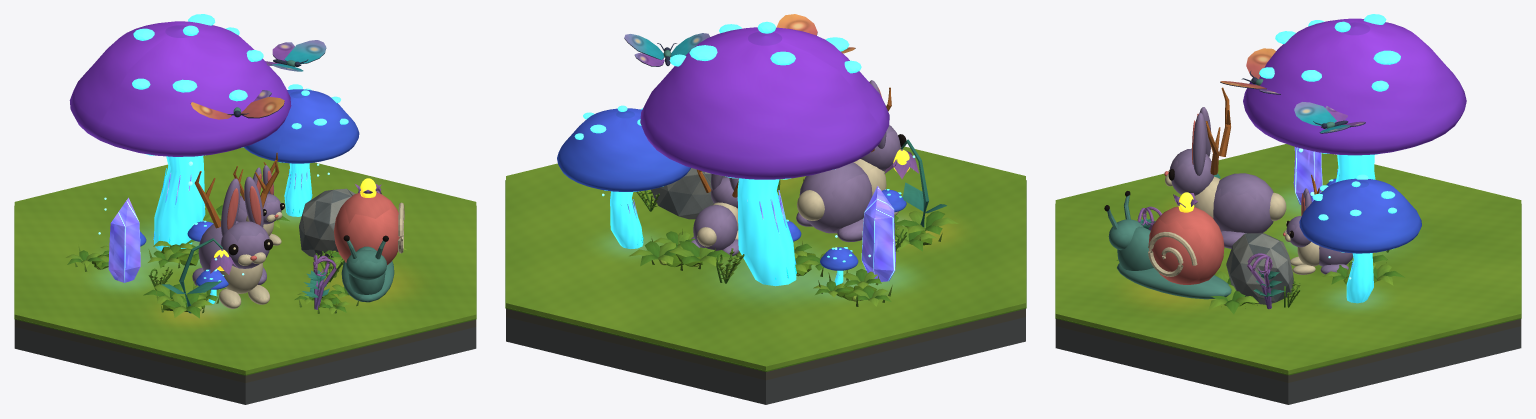
Rendered from hex_dream_menagerie.glb.
The picture shows the model from 3 angles, left to right: view 1: azimuth 30°, elevation 25°; view 2: azimuth 150°, elevation 25°; view 3: azimuth 270°, elevation 25°; orthographic projection. The views are drawn at different scales.
Visible parts, largest first — view 1: Standard hex meadow top.001, Broad faceted mushroom cap.002, Standard hex stone foundation.001, Broad faceted mushroom cap.003, Standard hex earth layer.001, Curving luminous mushroom stem.002, Coral lantern shell.001, Angular mossy forest boulder.001, Faceted magical crystal.002, Jackalope head.001, Curving luminous mushroom stem.003, Snail round head.001 (+10 smaller); view 2: Standard hex meadow top.001, Broad faceted mushroom cap.002, Standard hex stone foundation.001, Broad faceted mushroom cap.003, Curving luminous mushroom stem.002, Standard hex earth layer.001, Round jackalope haunch.001, Faceted magical crystal.002, Angular mossy forest boulder.001, Curving luminous mushroom stem.003, Round jackalope haunch.002, Jackalope head.001 (+8 smaller); view 3: Standard hex meadow top.001, Broad faceted mushroom cap.002, Standard hex stone foundation.001, Broad faceted mushroom cap.003, Coral lantern shell.001, Standard hex earth layer.001, Round jackalope haunch.001, Angular mossy forest boulder.001, Snail soft foot.001, Jackalope head.001, Faceted magical crystal.002, Curving luminous mushroom stem.003 (+13 smaller).
Part boxes in pixels (x1=…): Standard hex meadow top.001: x1=14, y1=147, x2=476, y2=374; Broad faceted mushroom cap.002: x1=69, y1=21, x2=291, y2=156; Standard hex stone foundation.001: x1=14, y1=327, x2=476, y2=404; Broad faceted mushroom cap.003: x1=244, y1=89, x2=359, y2=163; Standard hex earth layer.001: x1=14, y1=319, x2=476, y2=382; Curving luminous mushroom stem.002: x1=154, y1=156, x2=205, y2=250; Coral lantern shell.001: x1=334, y1=192, x2=401, y2=264; Angular mossy forest boulder.001: x1=299, y1=188, x2=355, y2=257; Faceted magical crystal.002: x1=108, y1=197, x2=140, y2=282; Jackalope head.001: x1=220, y1=221, x2=269, y2=268; Curving luminous mushroom stem.003: x1=284, y1=163, x2=312, y2=216; Snail round head.001: x1=346, y1=249, x2=387, y2=280; Standard hex meadow top.001: x1=506, y1=146, x2=1025, y2=370; Broad faceted mushroom cap.002: x1=640, y1=27, x2=889, y2=179; Standard hex stone foundation.001: x1=506, y1=317, x2=1025, y2=404; Broad faceted mushroom cap.003: x1=557, y1=108, x2=690, y2=191; Curving luminous mushroom stem.002: x1=737, y1=178, x2=796, y2=286; Standard hex earth layer.001: x1=506, y1=308, x2=1025, y2=380; Round jackalope haunch.001: x1=799, y1=162, x2=872, y2=233; Faceted magical crystal.002: x1=861, y1=186, x2=895, y2=281; Angular mossy forest boulder.001: x1=651, y1=168, x2=726, y2=219; Curving luminous mushroom stem.003: x1=610, y1=191, x2=643, y2=248; Round jackalope haunch.002: x1=693, y1=205, x2=737, y2=250; Jackalope head.001: x1=860, y1=125, x2=900, y2=171; Standard hex meadow top.001: x1=1055, y1=144, x2=1521, y2=374; Broad faceted mushroom cap.002: x1=1243, y1=18, x2=1466, y2=155; Standard hex stone foundation.001: x1=1055, y1=326, x2=1521, y2=404; Broad faceted mushroom cap.003: x1=1299, y1=178, x2=1421, y2=253; Coral lantern shell.001: x1=1148, y1=206, x2=1224, y2=284; Standard hex earth layer.001: x1=1055, y1=319, x2=1521, y2=382; Round jackalope haunch.001: x1=1213, y1=173, x2=1273, y2=233; Angular mossy forest boulder.001: x1=1226, y1=233, x2=1293, y2=304; Snail soft foot.001: x1=1117, y1=263, x2=1231, y2=299; Jackalope head.001: x1=1170, y1=148, x2=1213, y2=195; Faceted magical crystal.002: x1=1293, y1=147, x2=1322, y2=204; Curving luminous mushroom stem.003: x1=1346, y1=253, x2=1373, y2=303.
Bounding box in the file's own units: 5.11 × 2.67 × 4.42.
56 materials, 45 textured.
